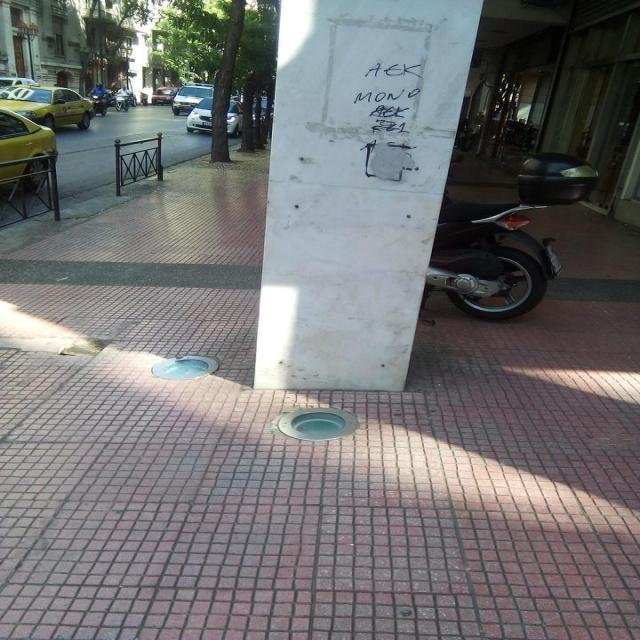nonspitting: (356, 61, 418, 183)
